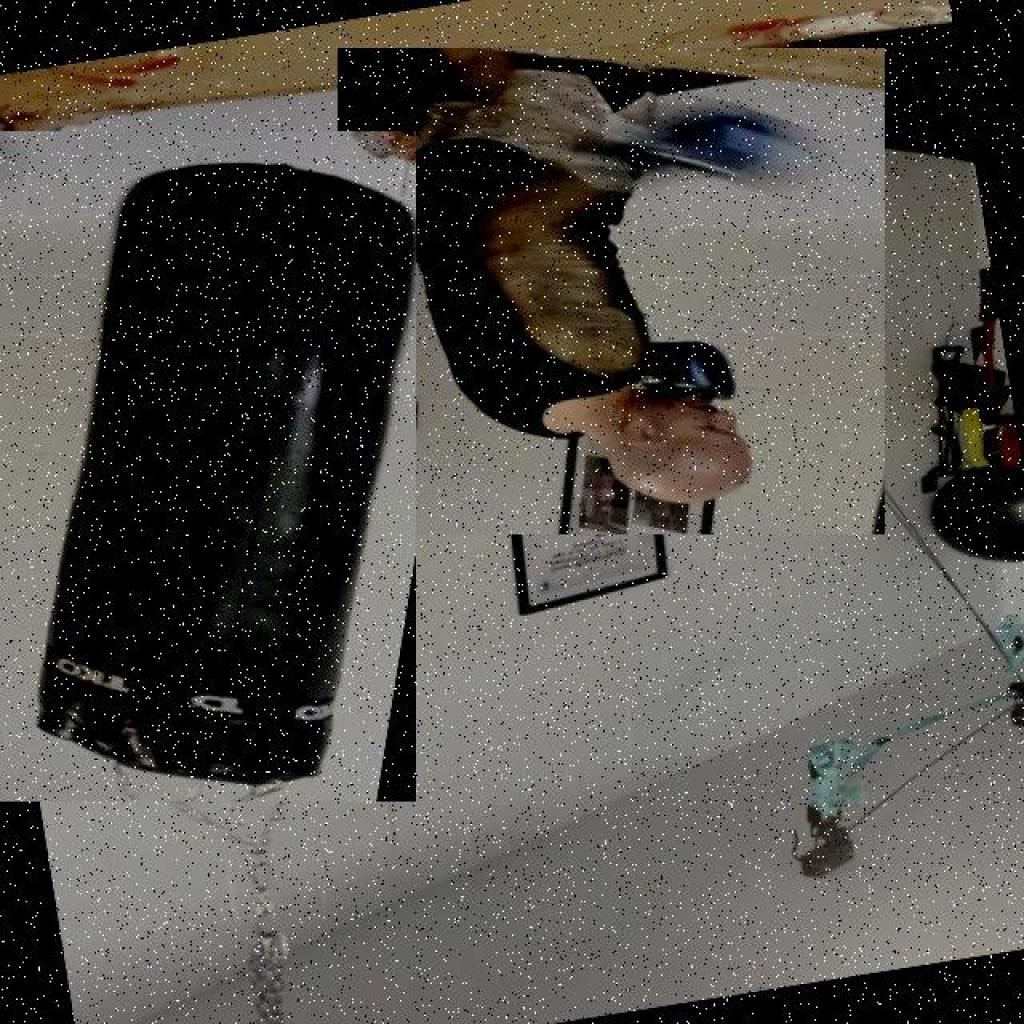bag: (0, 131, 416, 802)
uppercut: (338, 48, 884, 534)
